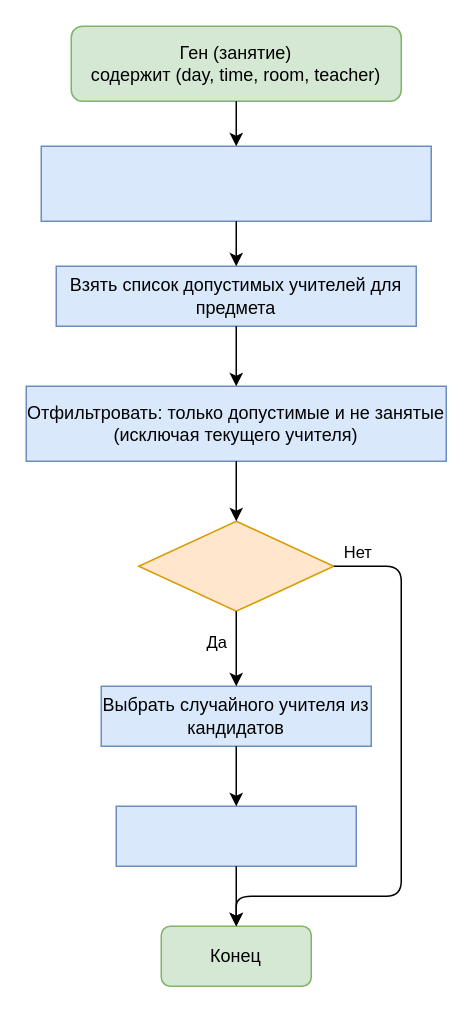
Some shapes in this 473 by 1013 pixel diagram are drawn without their labels. The centre of each missing label's shape, as x and y in pixels:
Есть кандидаты?: the point at 235,565
Найти всех учителей, занятых в это же слоте (кроме текущего гена): the point at 235,183
Обновить поле teacher гена: the point at 235,835
